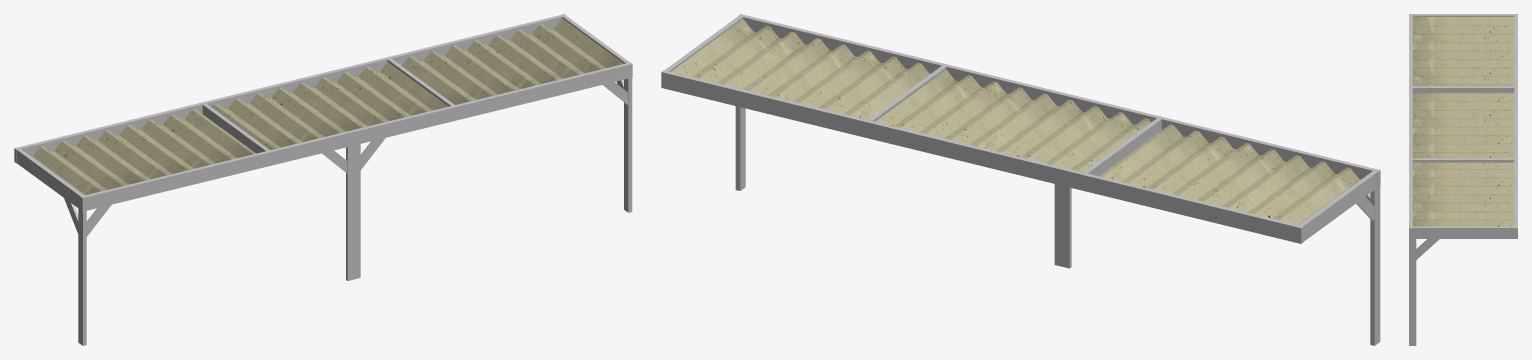
File: raincover04e.fbx
3 renders of one model, left to right at view 1: azimuth 30°, elevation 25°; view 2: azimuth 150°, elevation 25°; view 3: azimuth 270°, elevation 25°, orthographic. The views are drawn at different scales.
Parts seen in each view (by area): view 1: raincover04e; view 2: raincover04e; view 3: raincover04e.
Boxes of the visible parts, x1=… form: raincover04e: x1=14, y1=14, x2=632, y2=345; raincover04e: x1=661, y1=14, x2=1380, y2=345; raincover04e: x1=1409, y1=14, x2=1517, y2=345.
Bounding box in the file's own units: 1721 × 442 × 370.
